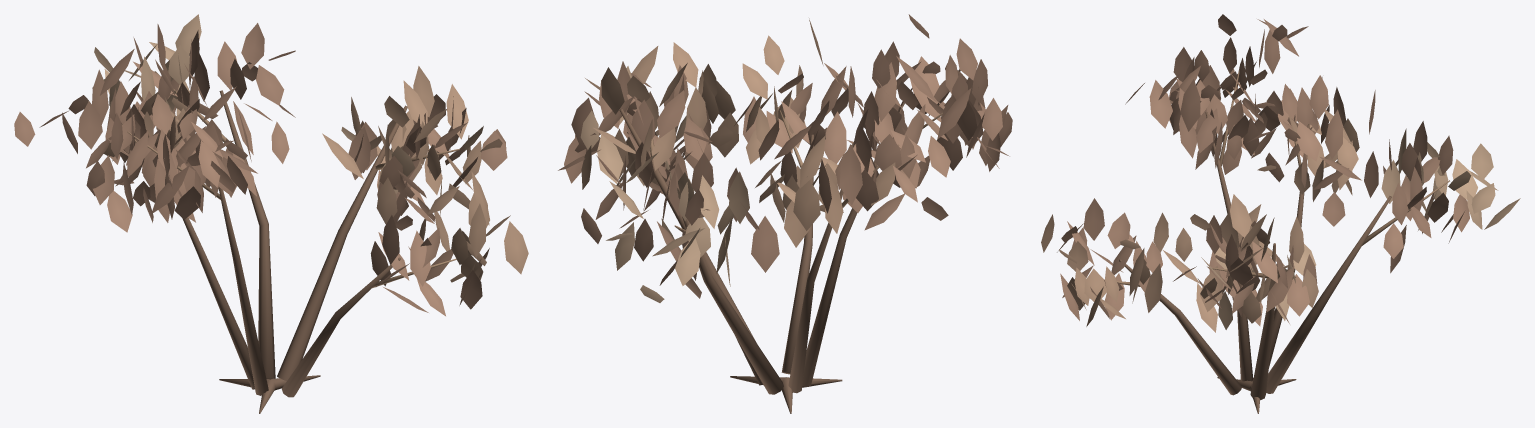
Rendered from bush_3d_01_copper.glb.
3 views of the same model, side by side, from view 1: azimuth 30°, elevation 25°; view 2: azimuth 150°, elevation 25°; view 3: azimuth 270°, elevation 25° (orthographic). The views are drawn at different scales.
Parts seen in each view (by area): view 1: bush_3d_01_copper_foliage, bush_3d_01_copper_wood; view 2: bush_3d_01_copper_foliage, bush_3d_01_copper_wood; view 3: bush_3d_01_copper_foliage, bush_3d_01_copper_wood.
Part boxes in pixels (left/top/right/bottom): bush_3d_01_copper_foliage: left=14, top=14, right=528, bottom=316; bush_3d_01_copper_wood: left=127, top=71, right=459, bottom=413; bush_3d_01_copper_foliage: left=558, top=14, right=1012, bottom=302; bush_3d_01_copper_wood: left=619, top=102, right=942, bottom=413; bush_3d_01_copper_foliage: left=1041, top=14, right=1520, bottom=332; bush_3d_01_copper_wood: left=1117, top=63, right=1449, bottom=413.
Size of the model in its own units: 1.89 by 1.46 by 2.01.
